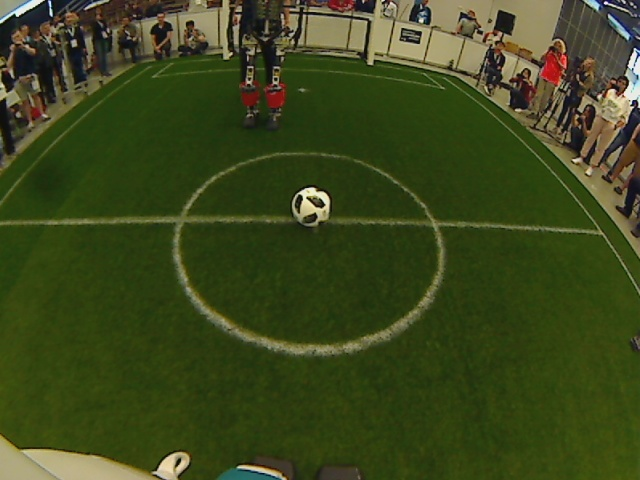ball: (290, 183, 333, 232)
goalpost: (353, 51, 387, 81), (213, 44, 237, 68)
robot: (233, 94, 289, 135)
